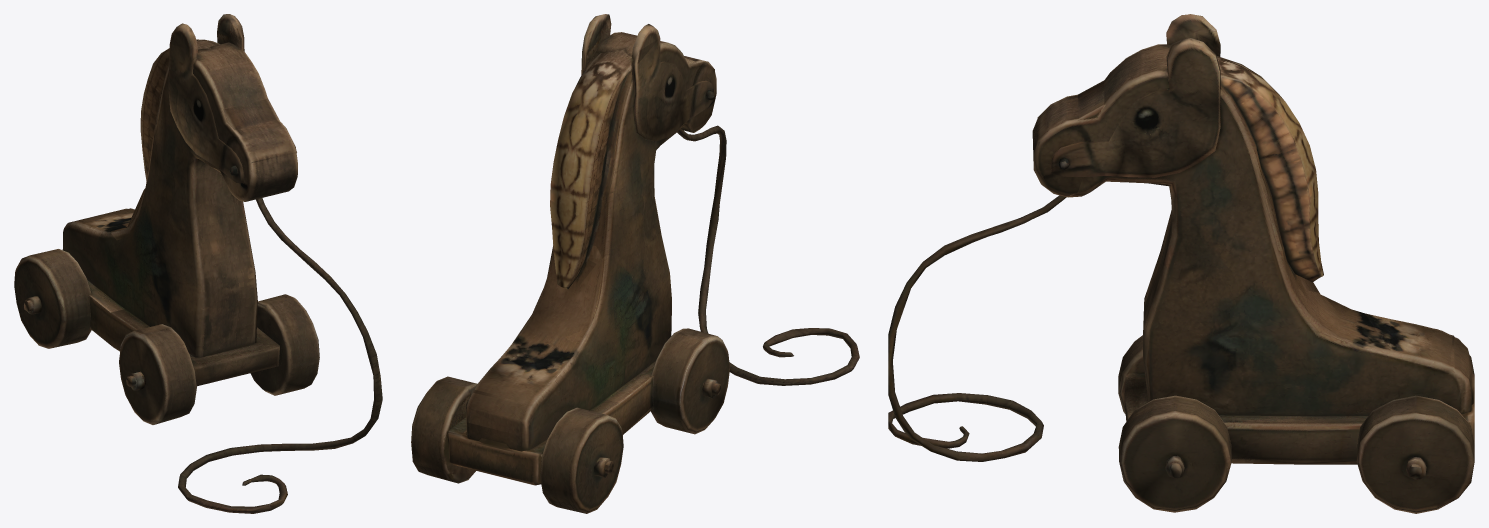
Rendered from toy3.fbx.
3 views of the same model, side by side, from view 1: azimuth 30°, elevation 25°; view 2: azimuth 150°, elevation 25°; view 3: azimuth 270°, elevation 25° (orthographic). The views are drawn at different scales.
Parts seen in each view (by area): view 1: mesh_node; view 2: mesh_node; view 3: mesh_node.
Part boxes in pixels (bbox=[...]): mesh_node: bbox=[14, 14, 382, 513]; mesh_node: bbox=[411, 14, 859, 513]; mesh_node: bbox=[888, 14, 1474, 513].
Bounding box in the file's own units: 49.61 × 83.4 × 100.
Materials: 1 (1 with a texture image).
